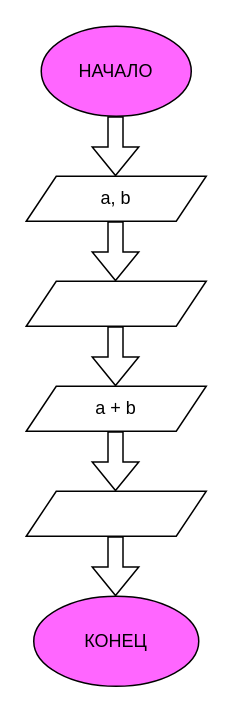
This 233x713 diagram has some shape labels left out. Here are the shapes that lost their labels. From the top down, the centre of each, then its label:
At pixel 115 303: "a * b".
At pixel 115 513: "a - b".
